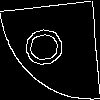O: (25, 24, 71, 69)
